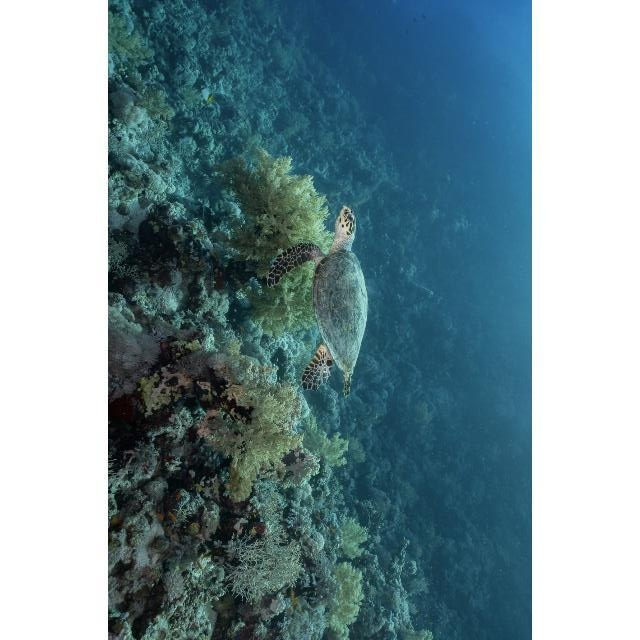penguin: (267, 298, 380, 365)
